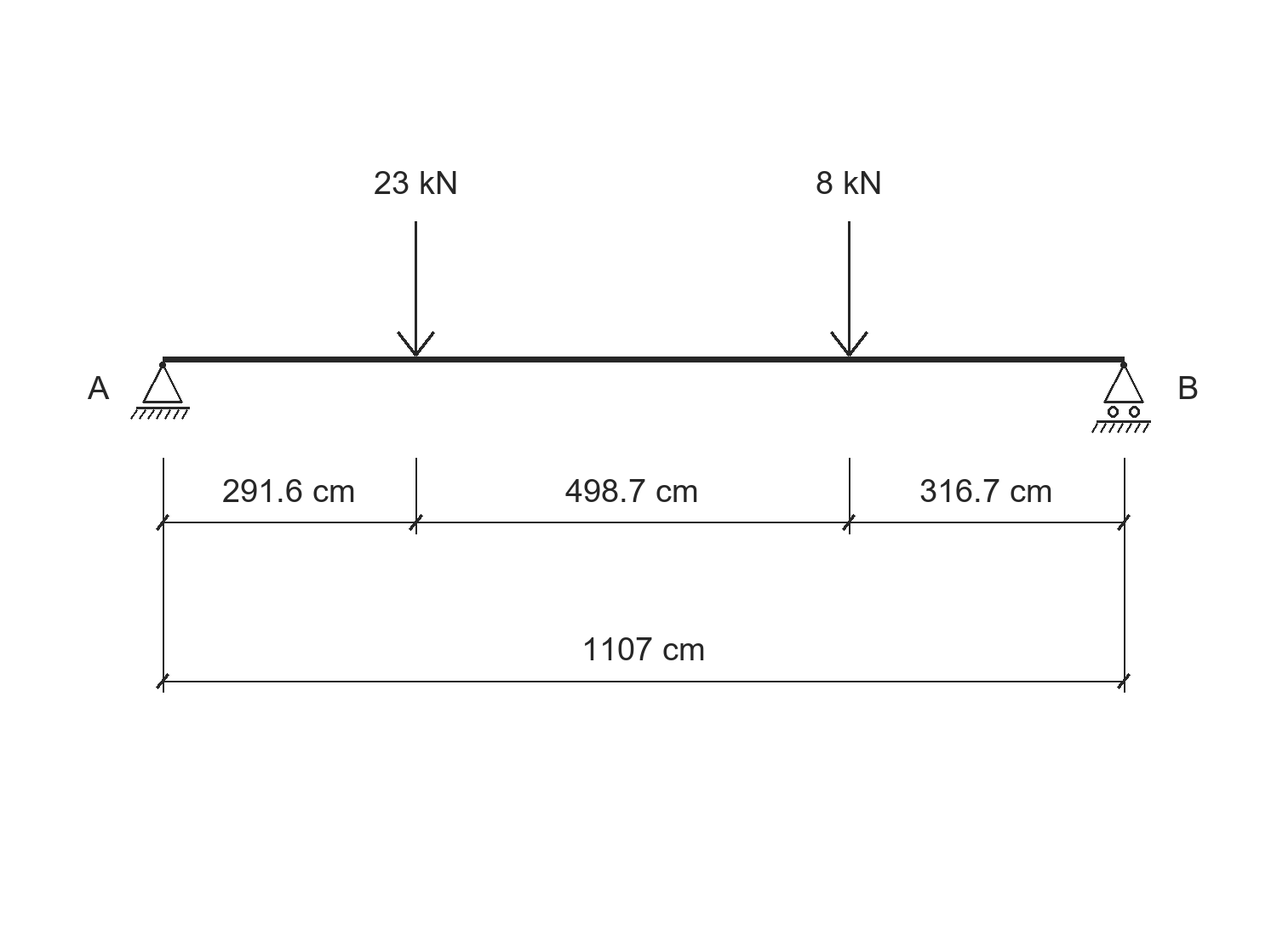pin_support: (130, 362, 190, 419)
point_load: (397, 221, 435, 357), (830, 221, 868, 357)
roller_support: (1091, 362, 1151, 433)
